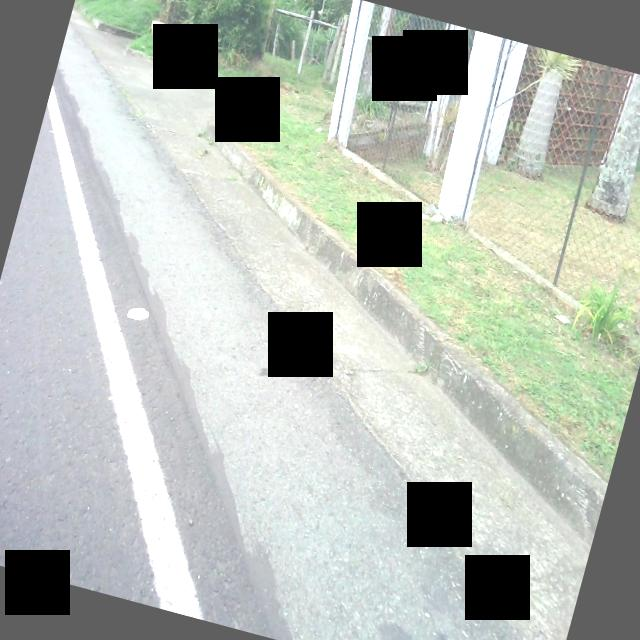DITCH: (0, 10, 640, 640), (0, 41, 640, 640)
